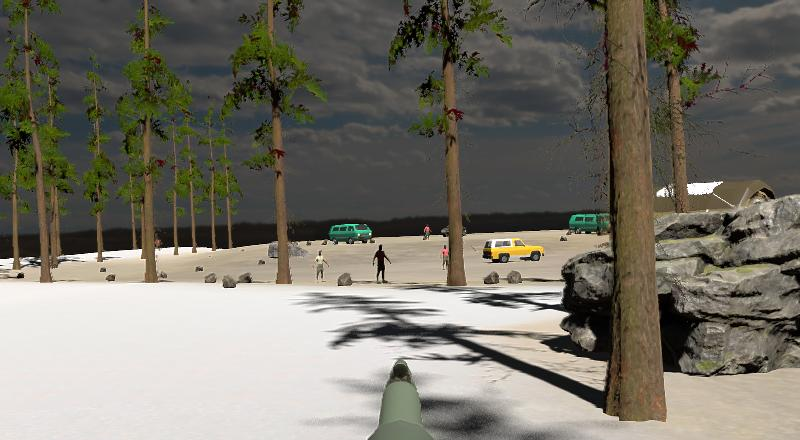Human: (438, 242, 452, 272)
car: (482, 236, 545, 265), (567, 211, 617, 237), (328, 222, 373, 246)
